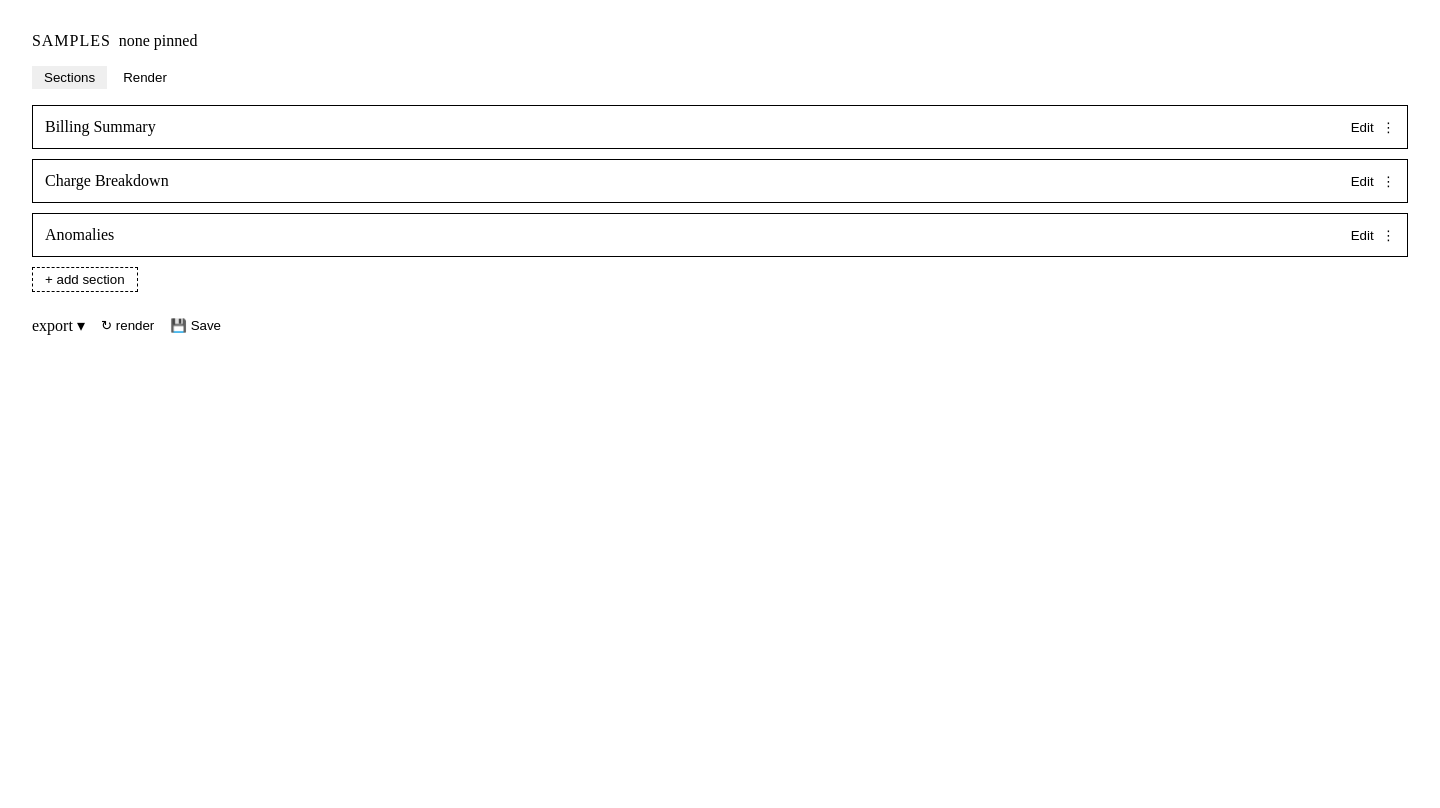
Test case: SmartReportBuilder — rewrite + preview (agentic-template-item-editor) › preview renders the single section's answer
The image size is (1440, 808).
Click the button with test id "report-builder-edit-billing_summary": (1362, 127) [1351,120,1374,134]
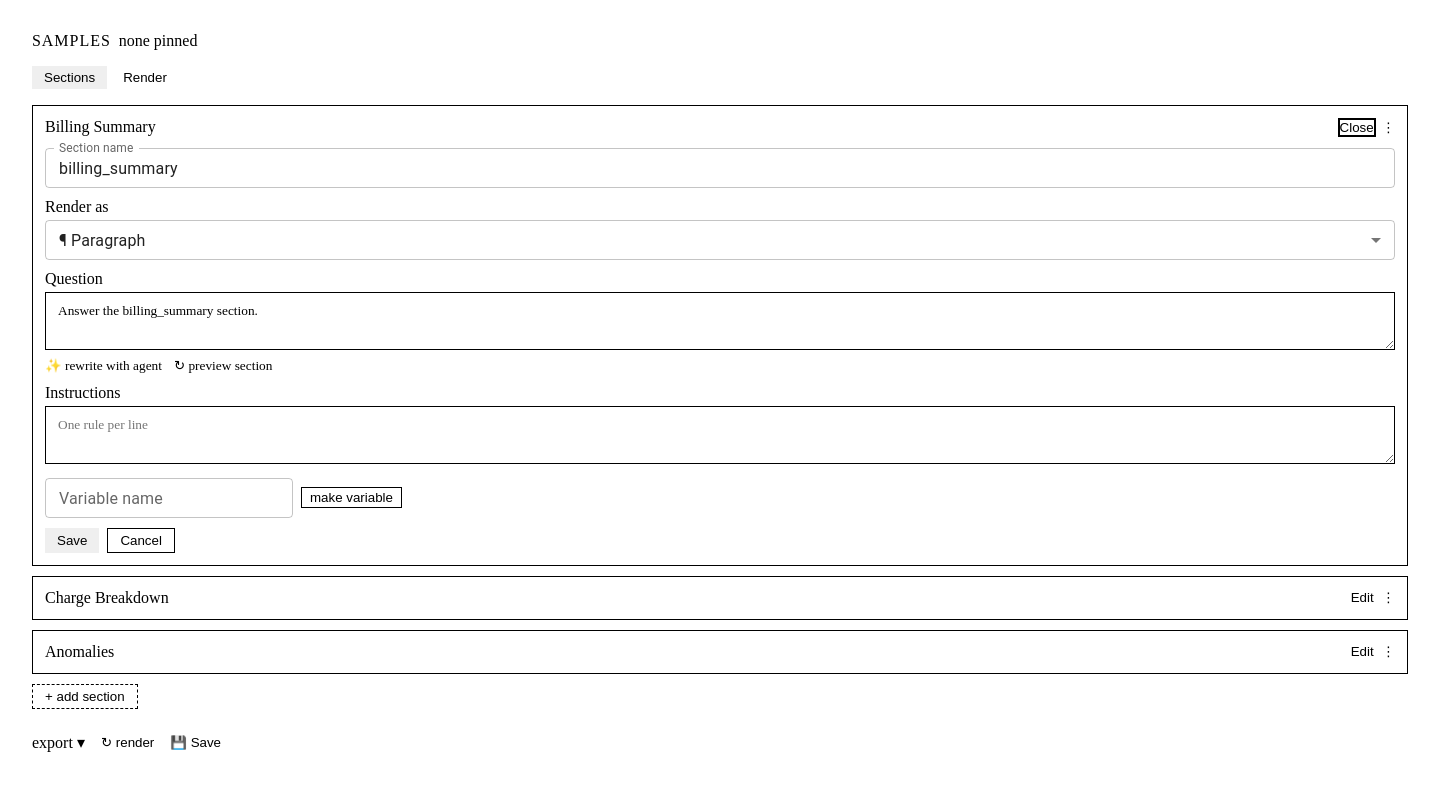
Click the button with test id "report-builder-preview-billing_summary": (223, 366) [174,358,272,374]
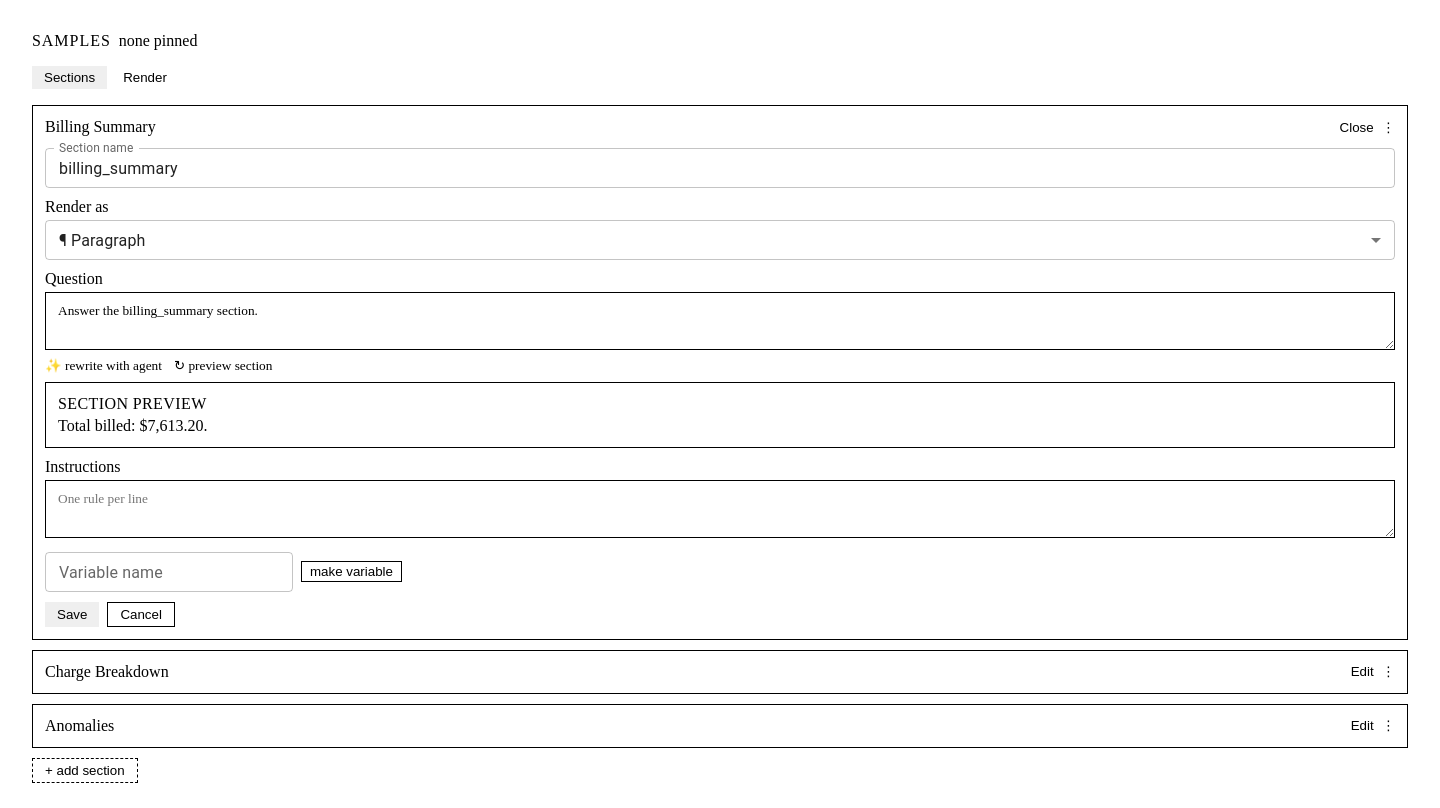
expect the element with test id "report-builder-preview-result-billing_summary" shows "Total billed: $7,613.20.": met, box [58,417,208,434]
